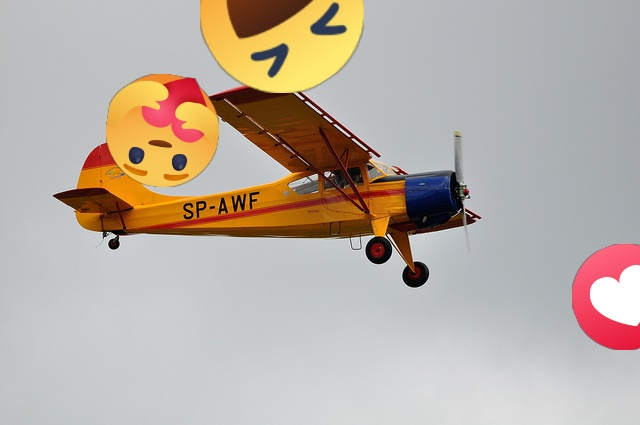care: (106, 74, 219, 187)
haha: (200, 0, 364, 93)
love: (572, 244, 640, 350)
